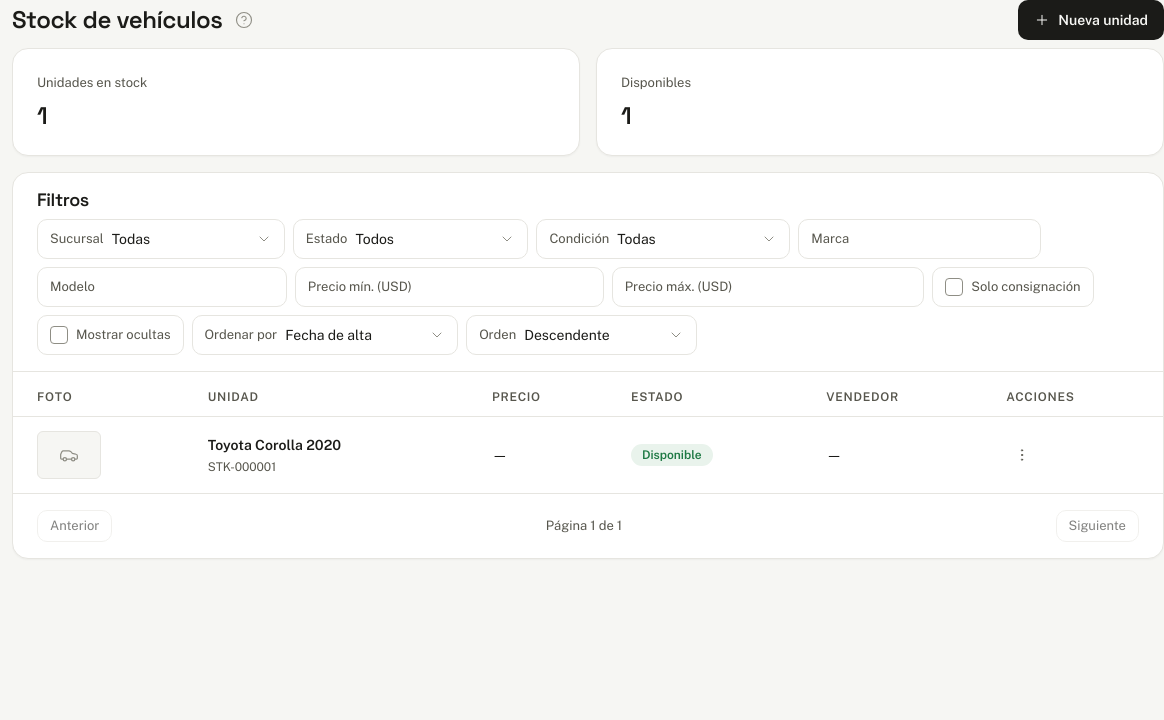
VehicleListPage › confirmar window.confirm envía DELETE al id correcto; un fallo se muestra
Click the button named "Más acciones" at (1022, 455), box [1006, 439, 1038, 471]
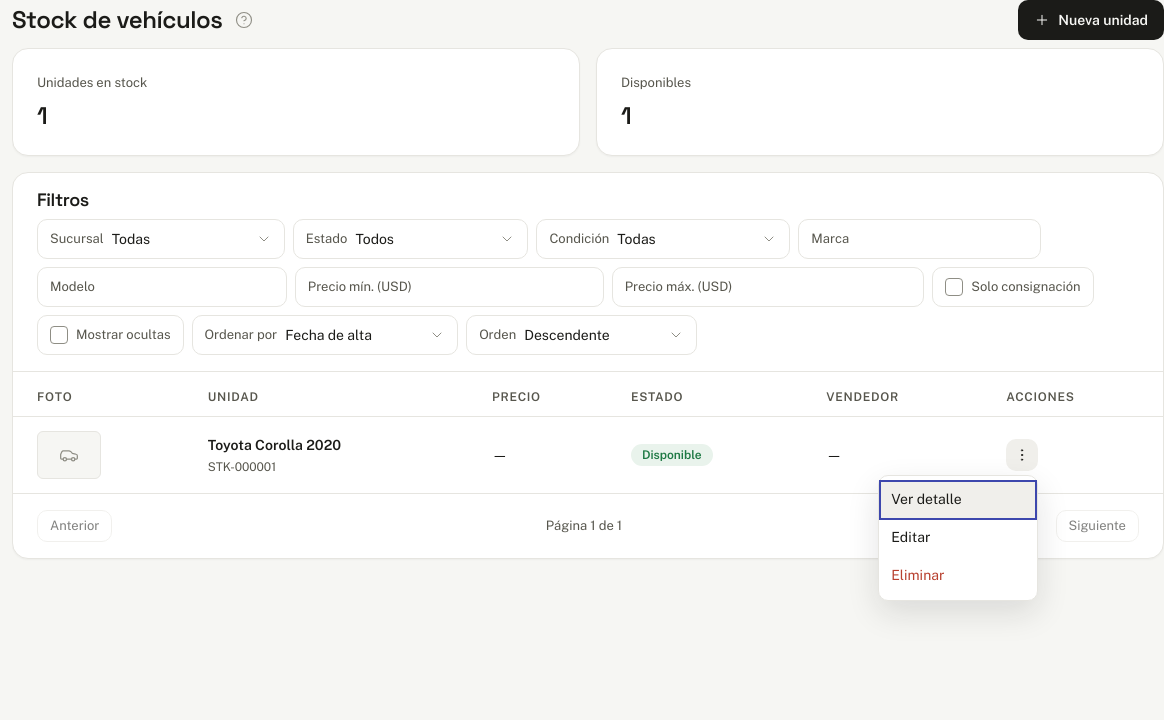
Click the menu item "Eliminar" at (958, 576), box [879, 556, 1037, 596]
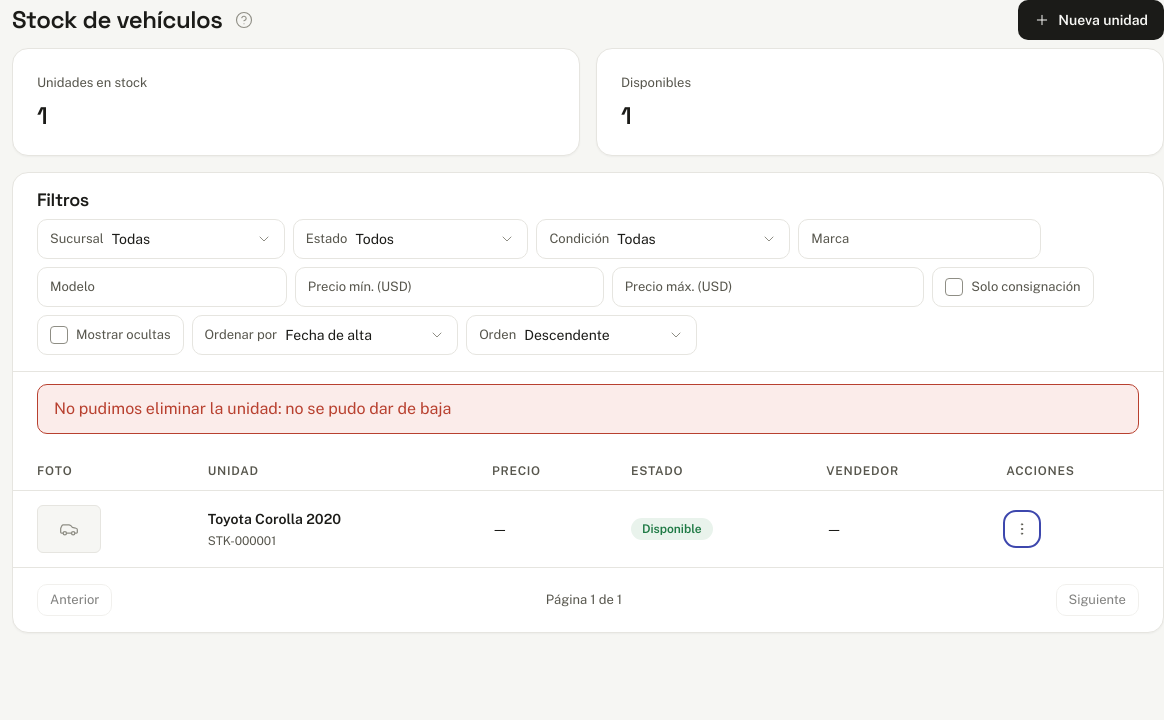
Check: the message shows "no se pudo dar de baja", box [278, 399, 451, 418]
